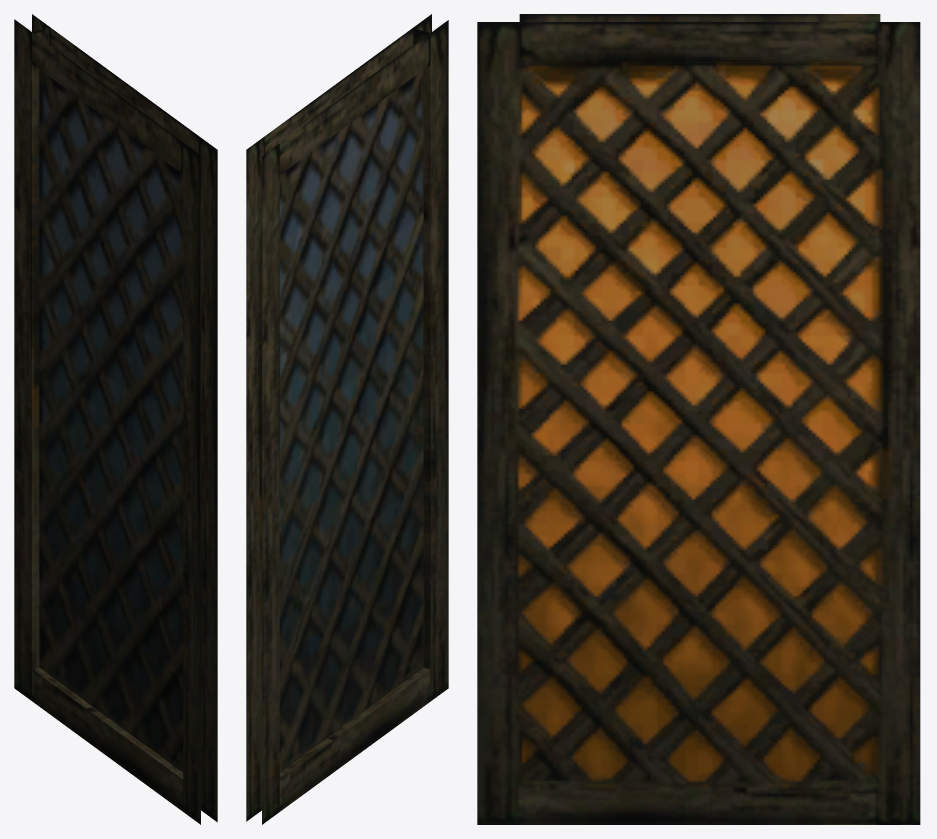
File: LAKETOWN_EXTERIOR_PS_LT_WINDOW_LONG_LOD1_50.fbx
3 renders of one model, left to right at view 1: azimuth 30°, elevation 25°; view 2: azimuth 150°, elevation 25°; view 3: azimuth 270°, elevation 25°, orthographic. The views are drawn at different scales.
Parts seen in each view (by area): view 1: LAKETOWN_EXTERIOR_PS_LT_WINDOW_LONG_LOD1_50; view 2: LAKETOWN_EXTERIOR_PS_LT_WINDOW_LONG_LOD1_50; view 3: LAKETOWN_EXTERIOR_PS_LT_WINDOW_LONG_LOD1_50.
Boxes of the visible parts, x1=… form: LAKETOWN_EXTERIOR_PS_LT_WINDOW_LONG_LOD1_50: x1=14, y1=14, x2=217, y2=824; LAKETOWN_EXTERIOR_PS_LT_WINDOW_LONG_LOD1_50: x1=246, y1=14, x2=448, y2=824; LAKETOWN_EXTERIOR_PS_LT_WINDOW_LONG_LOD1_50: x1=477, y1=14, x2=920, y2=824.
Size of the model in its own units: 392 by 14850 by 7470.
2 materials, 2 textured.
